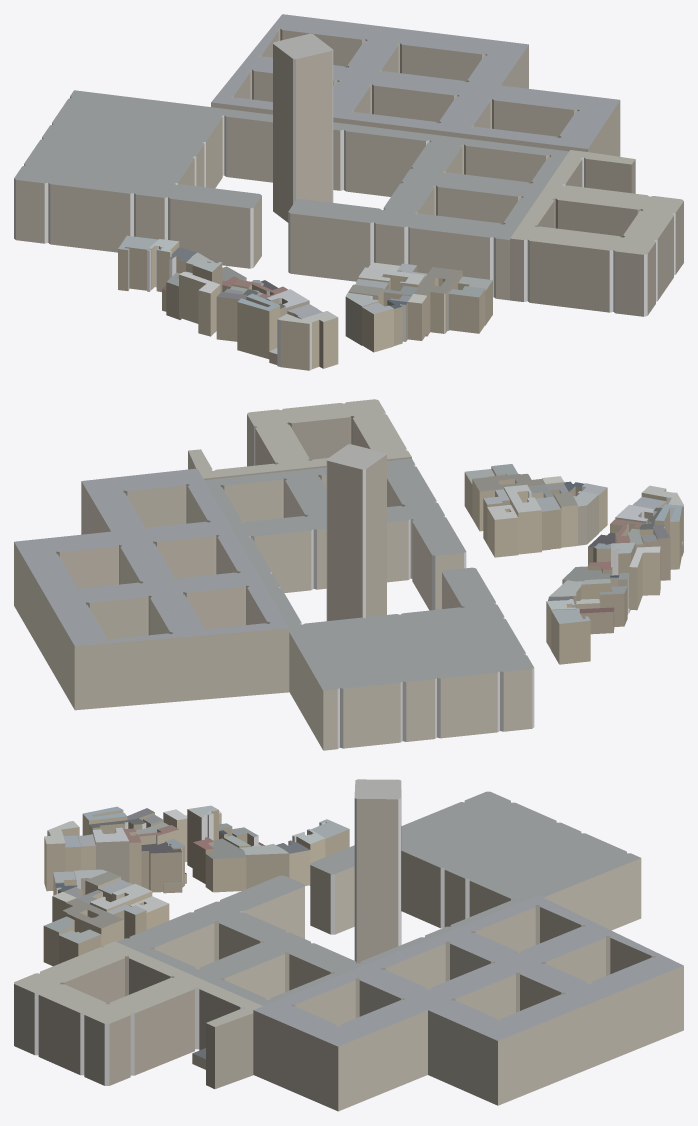
3 renders of one model, top to bottom at view 1: azimuth 30°, elevation 25°; view 2: azimuth 150°, elevation 25°; view 3: azimuth 270°, elevation 25°, orthographic.
Visible parts, largest first — view 1: tuile; view 2: tuile; view 3: tuile.
Part boxes in pixels (x1=…): tuile: x1=14, y1=14, x2=683, y2=370; tuile: x1=14, y1=399, x2=683, y2=750; tuile: x1=14, y1=779, x2=683, y2=1111.
Size of the model in its own units: 309 by 101 by 337.
